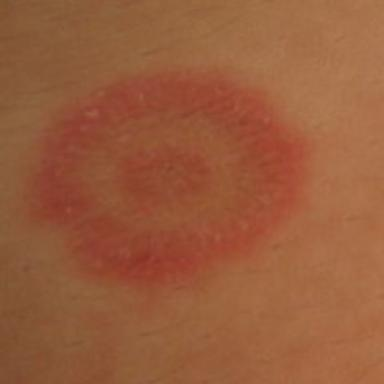Tinea-Corporis: (31, 71, 309, 282)
